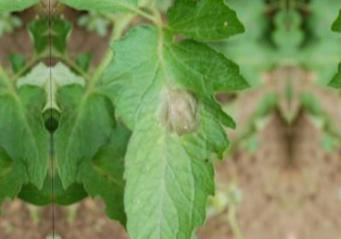Tomato leaf late blight: (97, 15, 225, 239)
